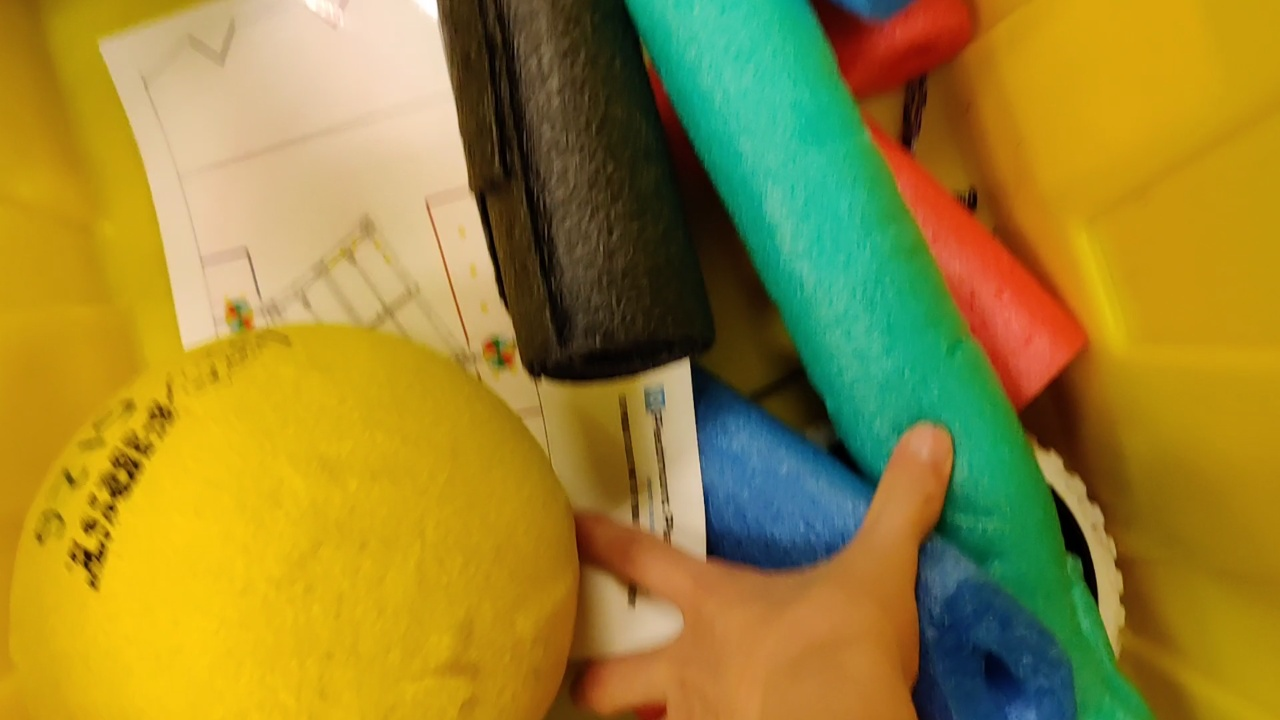Ball: (9, 321, 583, 720)
